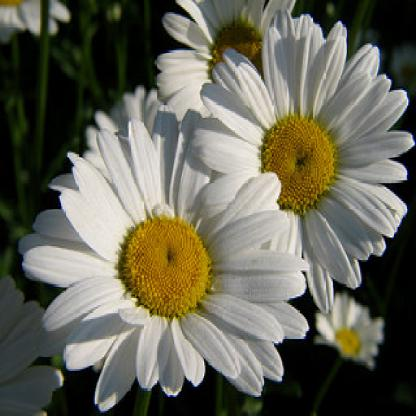ASTER: (15, 15, 403, 398)
